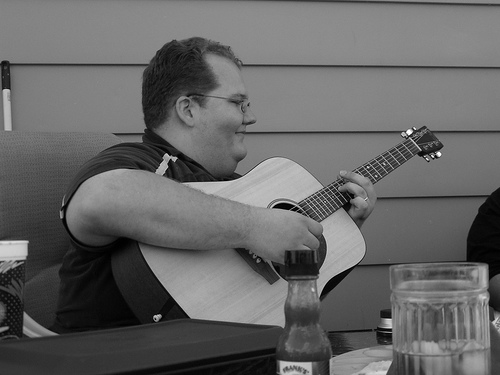guitar: (115, 124, 444, 338)
